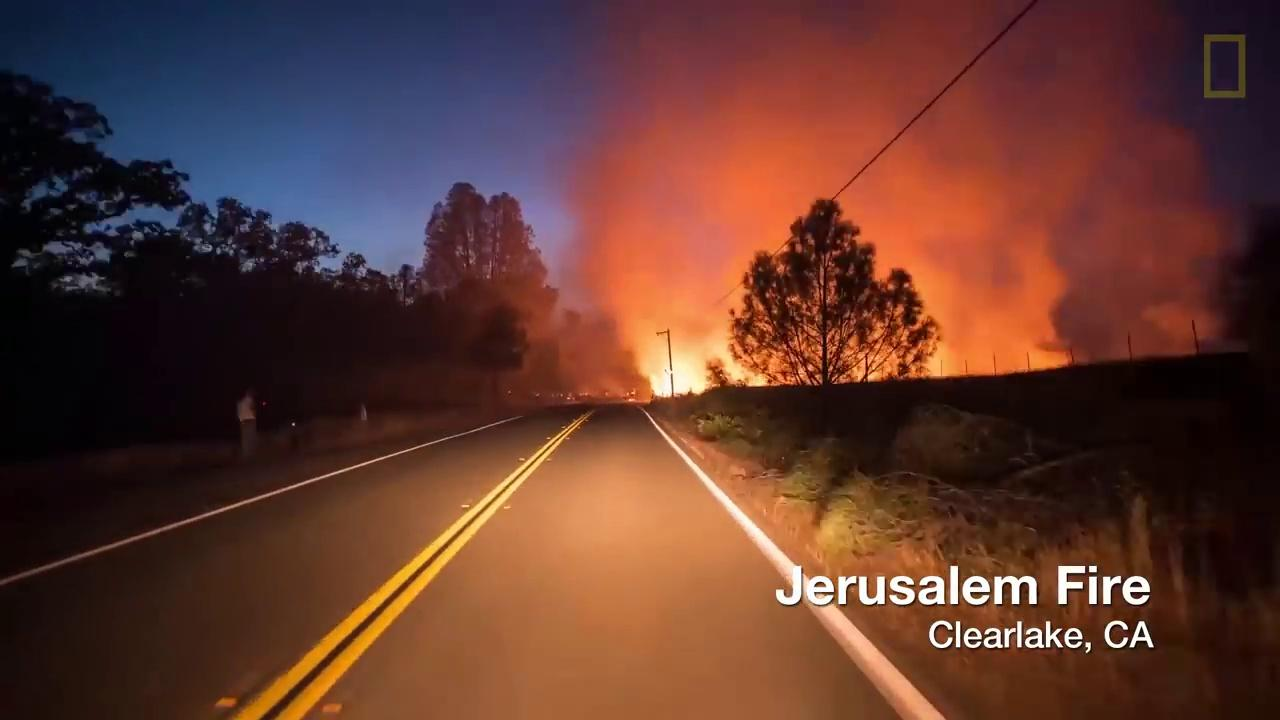Fire: (632, 345, 702, 401), (717, 349, 768, 387)
